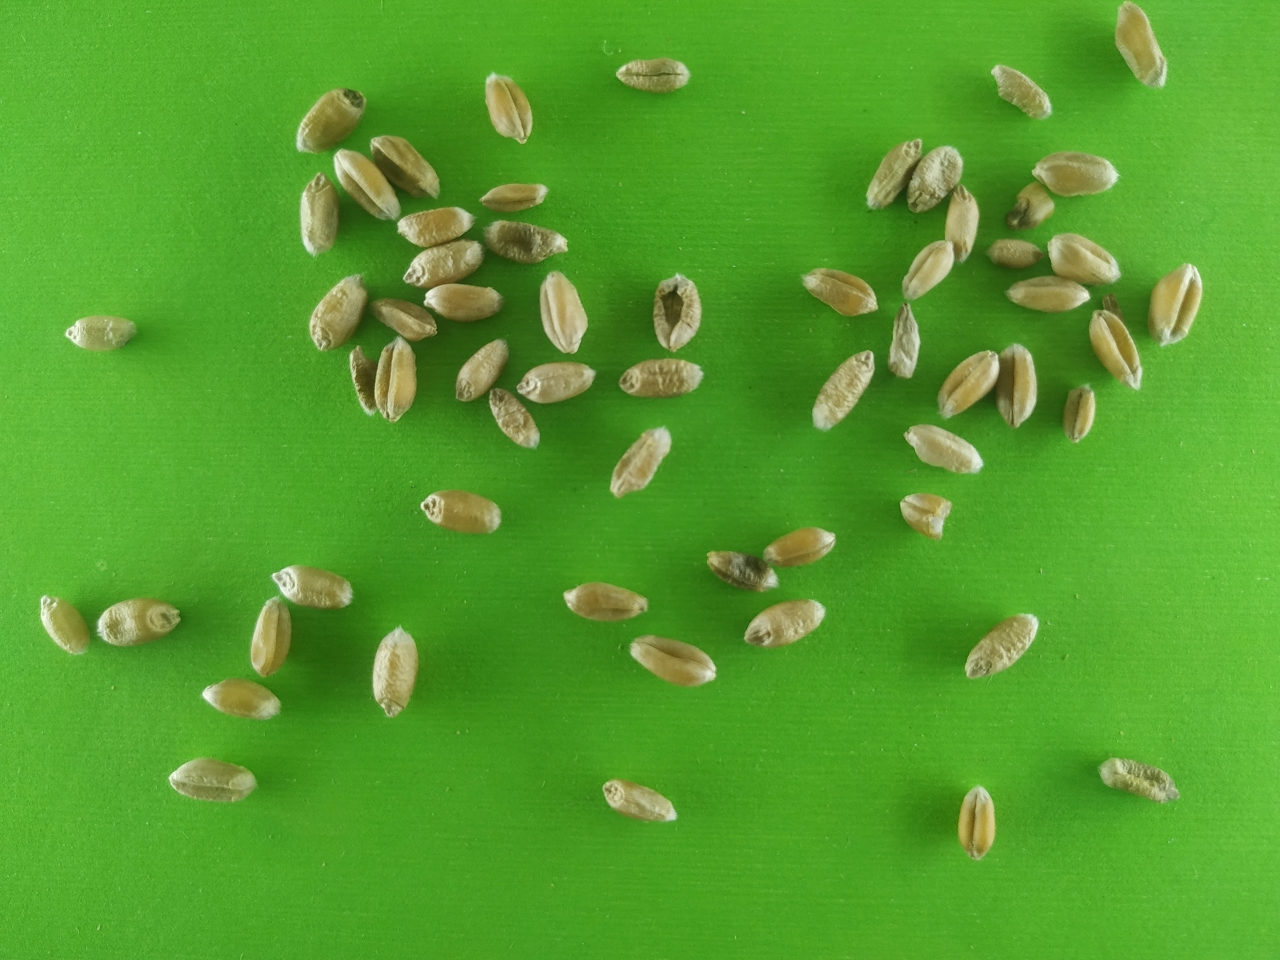bueno: (370, 622, 422, 719), (293, 87, 368, 154), (1113, 0, 1168, 89), (1148, 260, 1204, 347), (935, 346, 999, 422), (309, 272, 368, 353), (967, 611, 1036, 679), (333, 150, 396, 224), (164, 755, 258, 805), (371, 133, 438, 202), (904, 418, 983, 476), (1028, 149, 1119, 199), (98, 596, 186, 646), (629, 634, 716, 686), (800, 260, 880, 316), (1086, 311, 1142, 390), (399, 239, 488, 287), (538, 268, 588, 352), (1047, 232, 1123, 286), (742, 598, 823, 647), (992, 342, 1038, 427), (417, 489, 501, 535), (564, 577, 648, 623), (272, 563, 354, 610), (1001, 274, 1097, 315), (201, 673, 281, 720), (514, 361, 602, 404), (484, 71, 534, 142), (759, 523, 836, 570), (602, 777, 677, 823), (456, 338, 507, 404), (399, 204, 480, 246), (249, 597, 292, 675), (59, 315, 142, 353), (301, 170, 338, 257), (38, 594, 89, 655), (903, 237, 953, 297), (956, 789, 997, 864), (610, 56, 690, 94), (373, 296, 438, 339), (428, 285, 506, 319), (1056, 379, 1096, 442), (948, 187, 978, 264), (482, 178, 549, 212), (983, 237, 1043, 270)
danado: (810, 349, 877, 428), (608, 425, 670, 498), (863, 136, 922, 211), (651, 272, 706, 351), (1098, 751, 1179, 804), (907, 143, 966, 213), (485, 218, 566, 261), (616, 359, 705, 397), (708, 546, 780, 592), (489, 386, 543, 448), (887, 303, 922, 377), (347, 346, 378, 413)
partido: (991, 66, 1050, 118), (898, 488, 953, 541), (1006, 182, 1056, 229)
